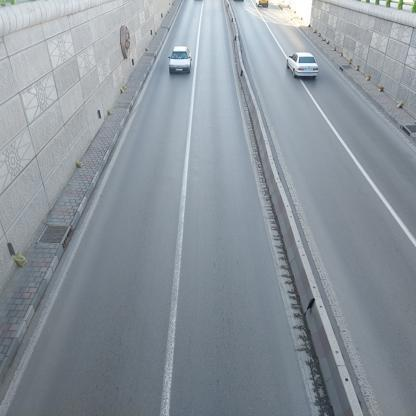Car: (284, 45, 317, 80), (167, 45, 194, 81), (254, 0, 271, 8)
